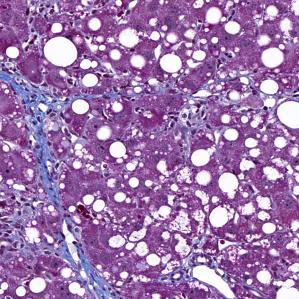fibrosis: (11, 76, 77, 198), (53, 230, 111, 297)
